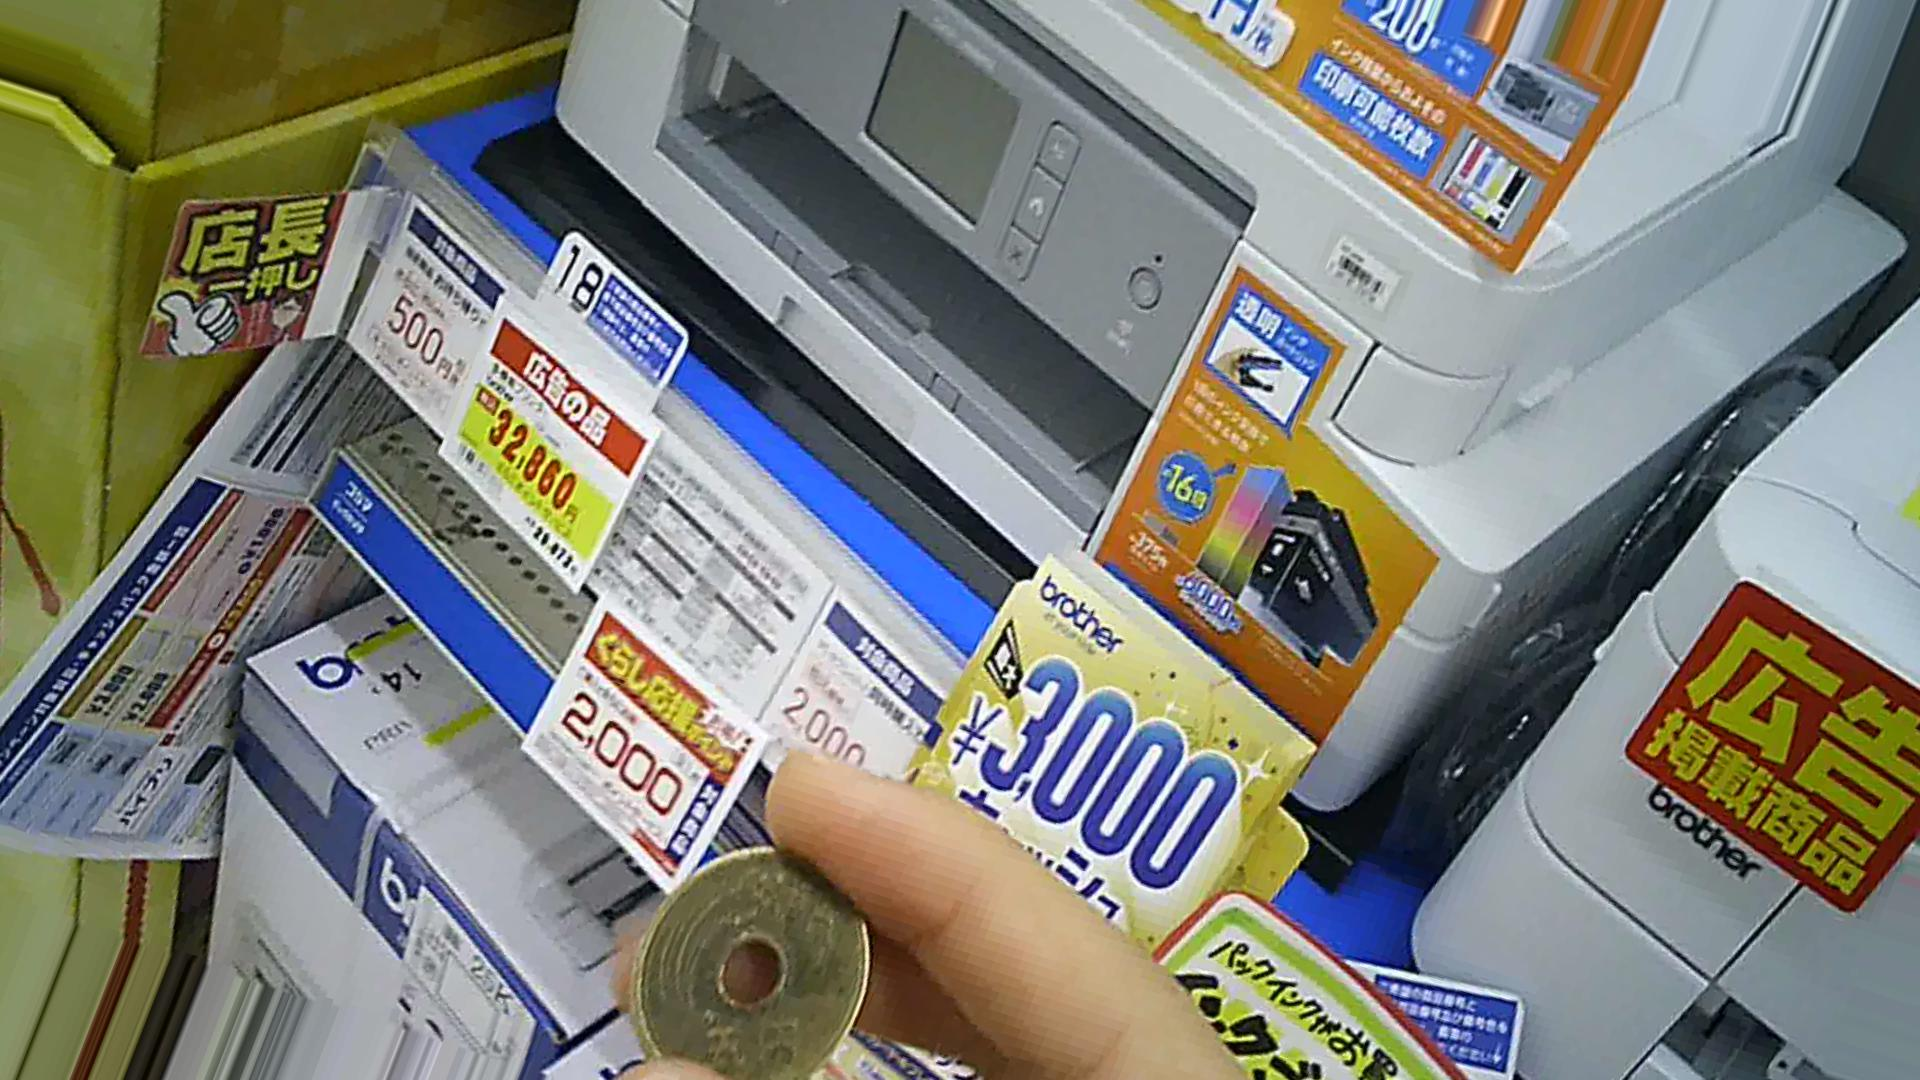5 Yen: (620, 847, 874, 1079)
